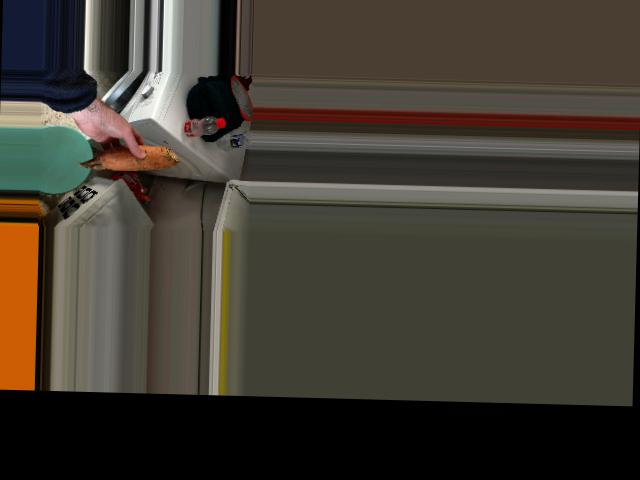sweet_potato: (86, 139, 172, 173)
